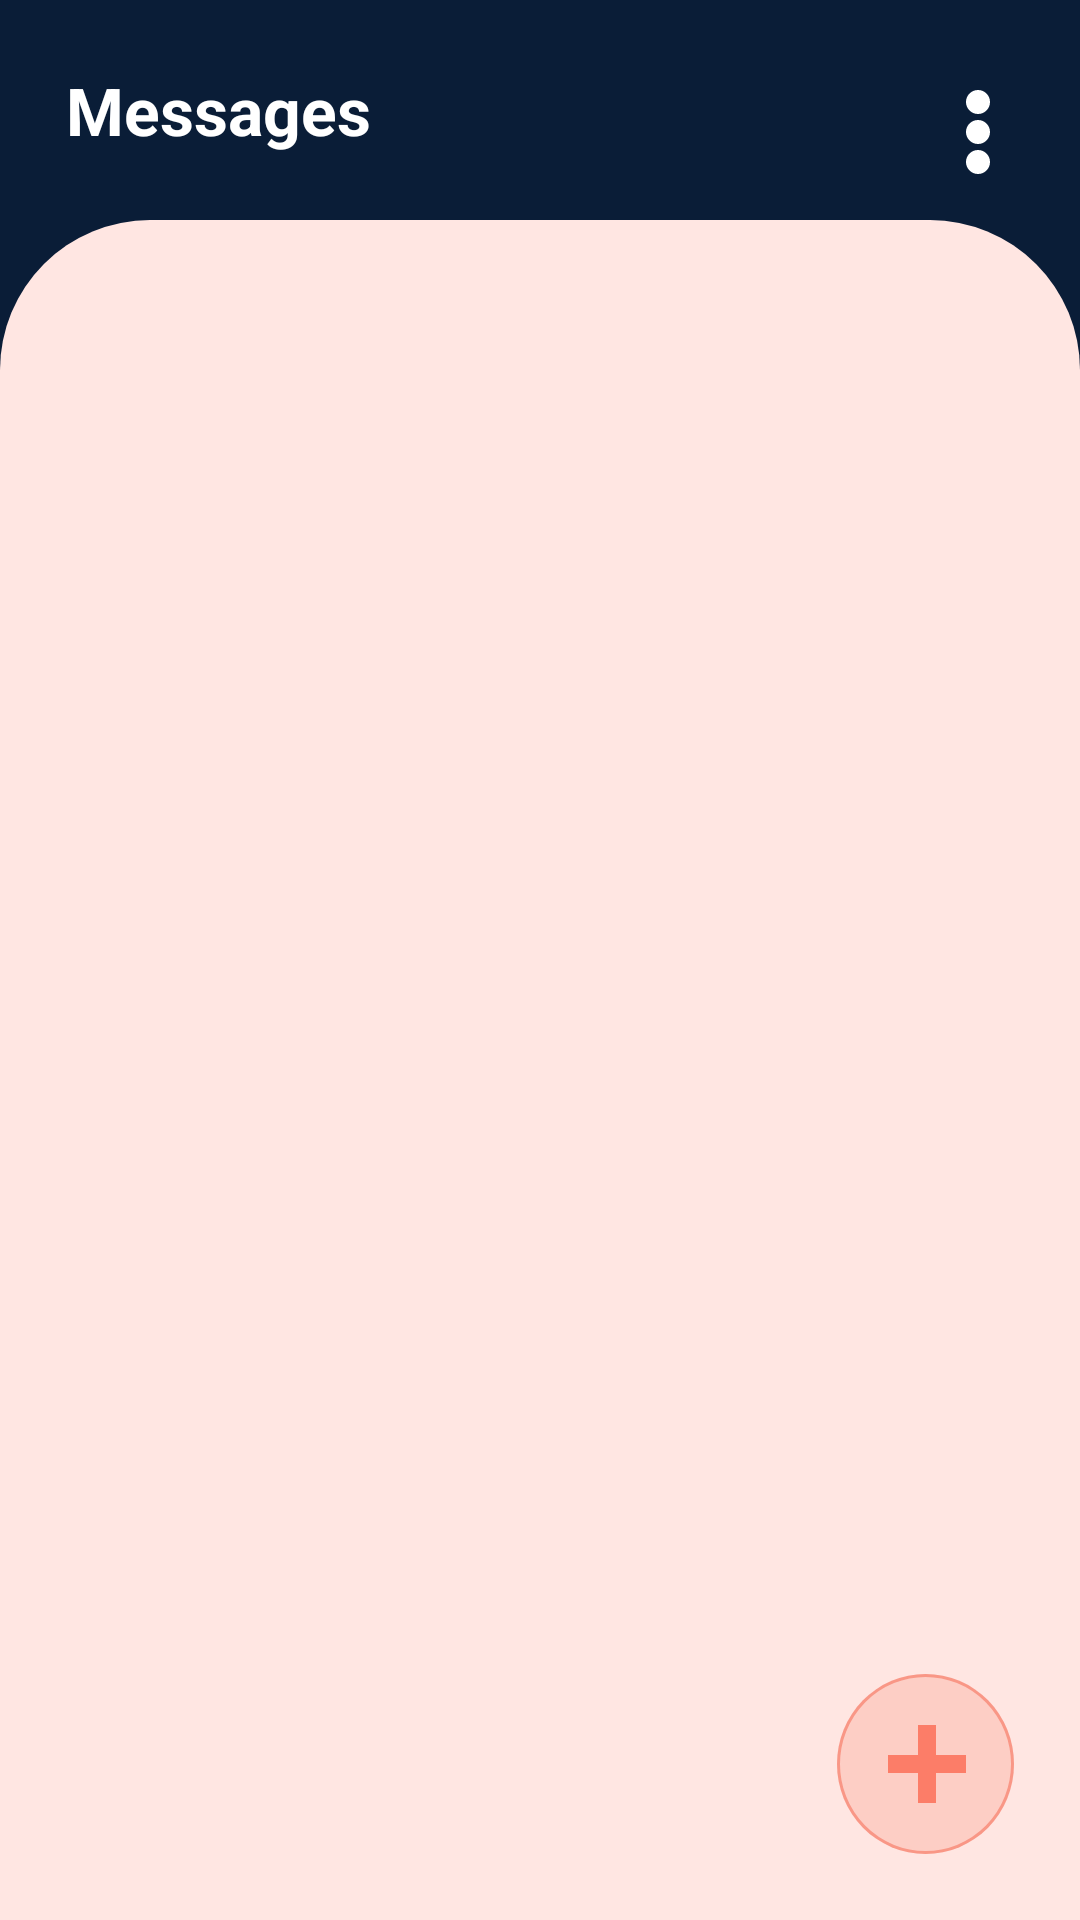

Icons on this 1080px×1920px Android screen, each with the point to tap as (x=x, y=y):
add: (x=925, y=1764)
